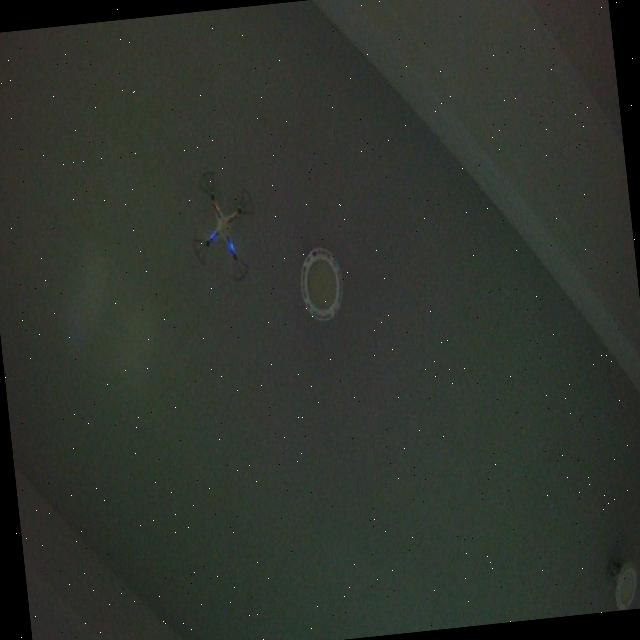drone: (184, 163, 266, 292)
